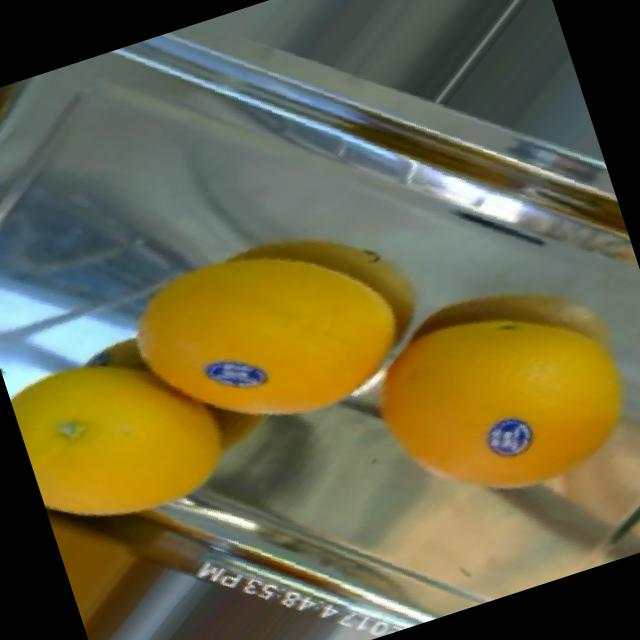Fruit: (0, 71, 87, 227)
